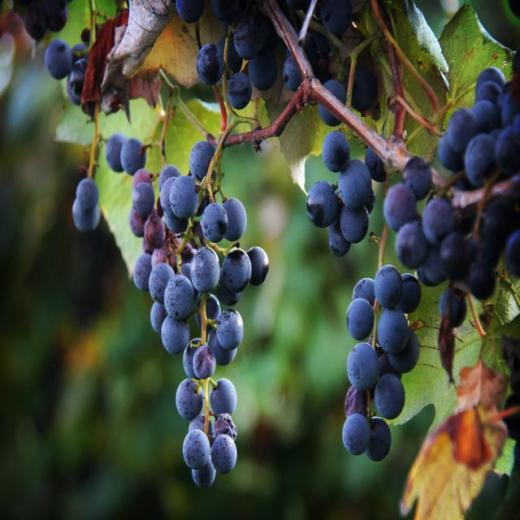Orange: (344, 64, 520, 462), (177, 1, 387, 255), (119, 140, 270, 487), (44, 28, 128, 232), (12, 0, 67, 42)
